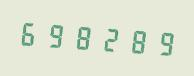eight: (122, 21, 147, 59), (70, 18, 95, 55)
nine: (148, 23, 173, 61), (43, 16, 68, 53)
six: (17, 14, 42, 52)
two: (96, 19, 121, 57)
